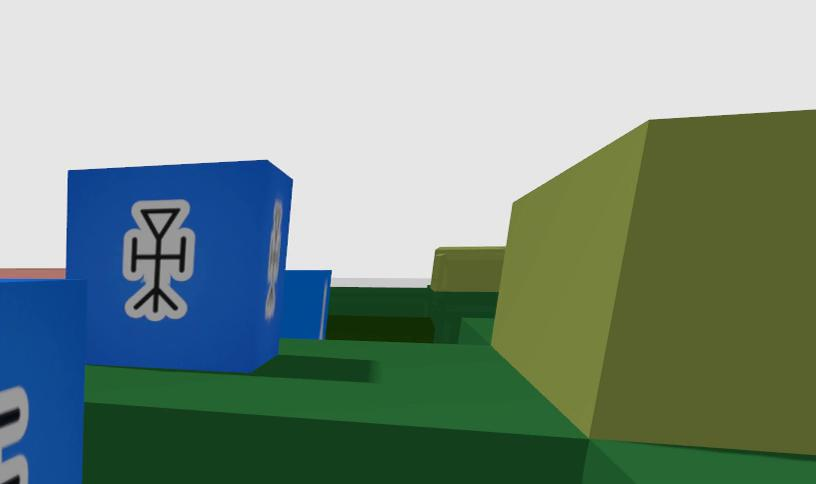KFS_REAL: (66, 161, 329, 371), (0, 280, 84, 484), (123, 199, 195, 320), (278, 270, 331, 338), (0, 386, 29, 484)
